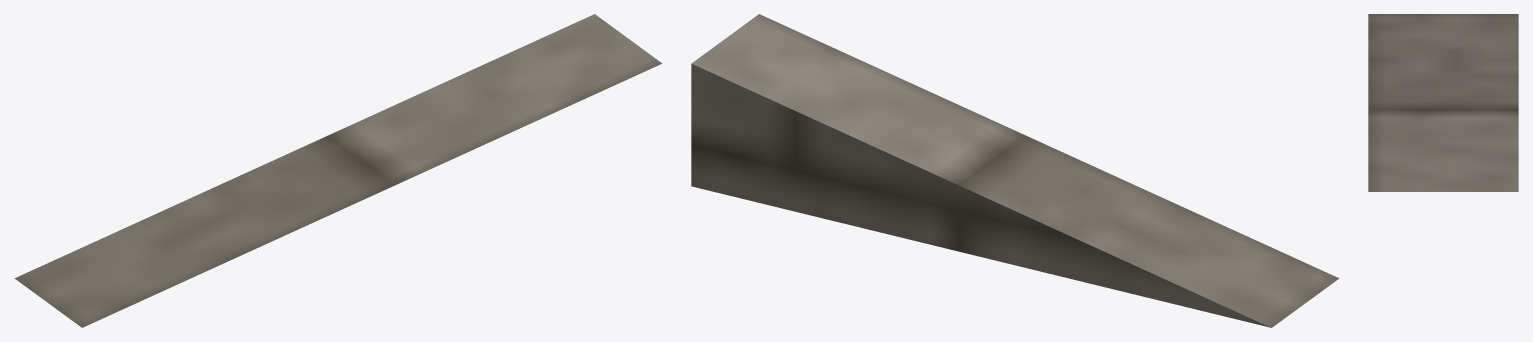
Rendered from tunel_silnicni_zed_0.glb.
The picture shows the model from 3 angles, left to right: view 1: azimuth 30°, elevation 25°; view 2: azimuth 150°, elevation 25°; view 3: azimuth 270°, elevation 25°; orthographic projection. The views are drawn at different scales.
Visible parts, largest first — view 1: tunel_silnicni_zed_0; view 2: tunel_silnicni_zed_0; view 3: tunel_silnicni_zed_0.
Boxes of the visible parts, <box> form: tunel_silnicni_zed_0: <box>15,14,661,327</box>; tunel_silnicni_zed_0: <box>691,14,1338,327</box>; tunel_silnicni_zed_0: <box>1368,14,1518,191</box>.
Size of the model in its own units: 4.95 by 1 by 1.
Materials: 1 (1 with a texture image).
